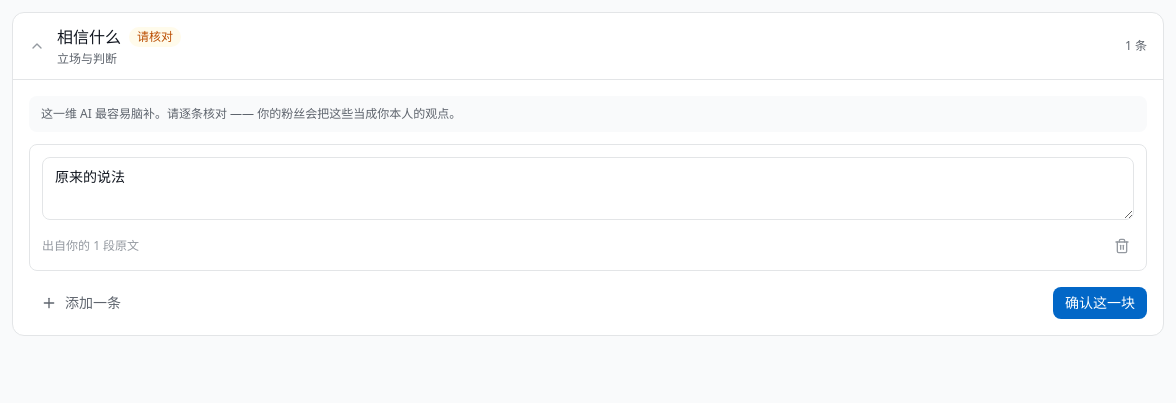
DimensionCard 的确认 › 请求失败：编辑内容保留，并在这张卡片里说明原因
Replace the text in the text box showing "原来的说法" with "改过的说法". click: (588,188)
box: [42,156,1134,220]
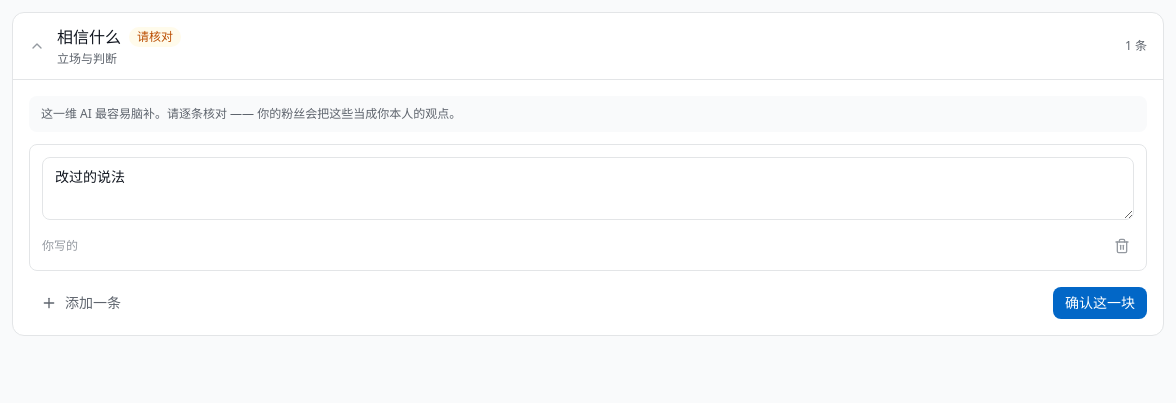
Click the button "确认这一块". click: (1100,303)
box: [1053,287,1147,319]
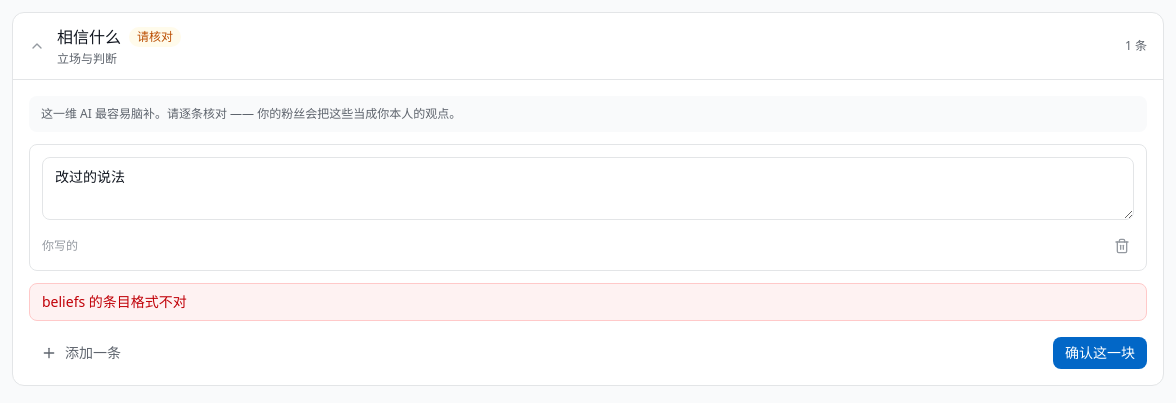
Result: the text "beliefs 的条目格式不对" is shown at [29,283,1147,321]
